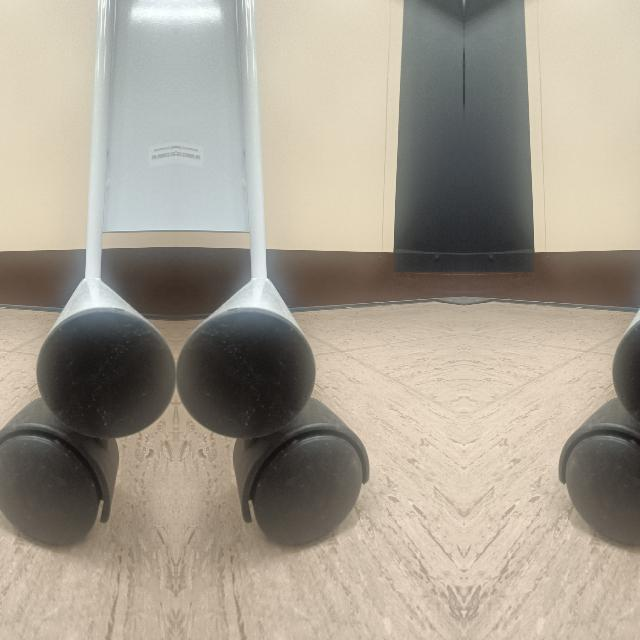obstacle: (178, 205, 372, 552), (0, 205, 171, 552), (556, 205, 640, 552)
